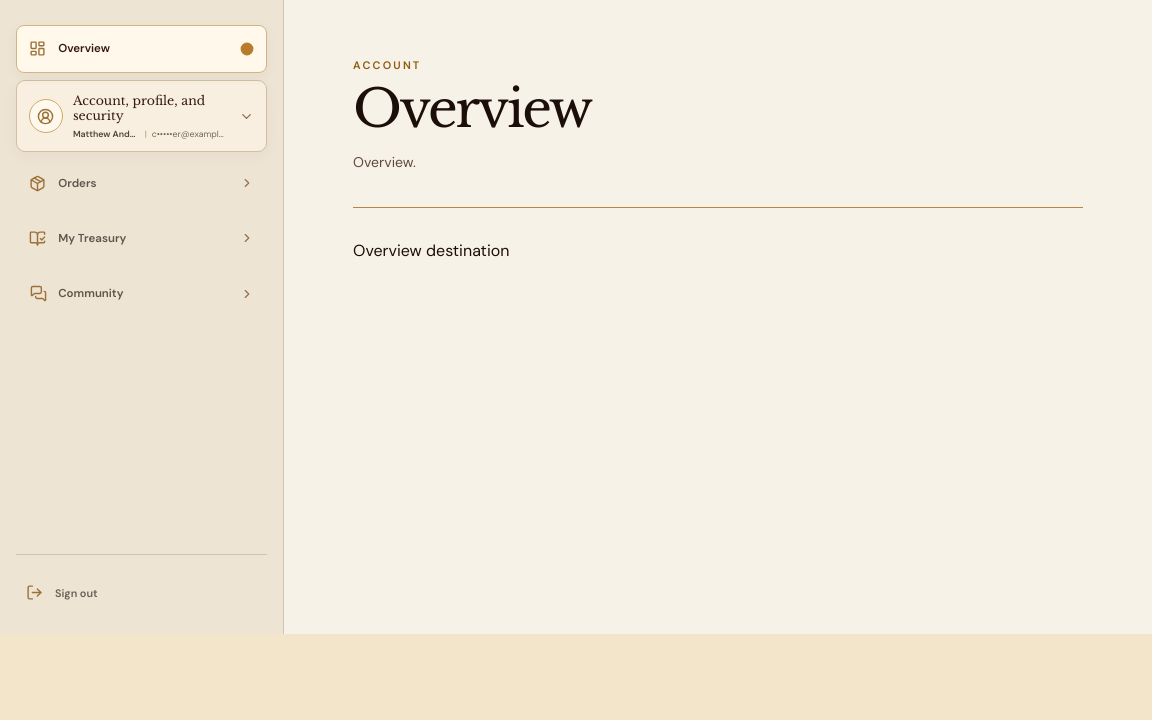
routed Account Centre › reports a failed sidebar sign-out instead of leaving a dead-looking button
Click the button "Sign out": (142, 593) 16,571 -> 267,615
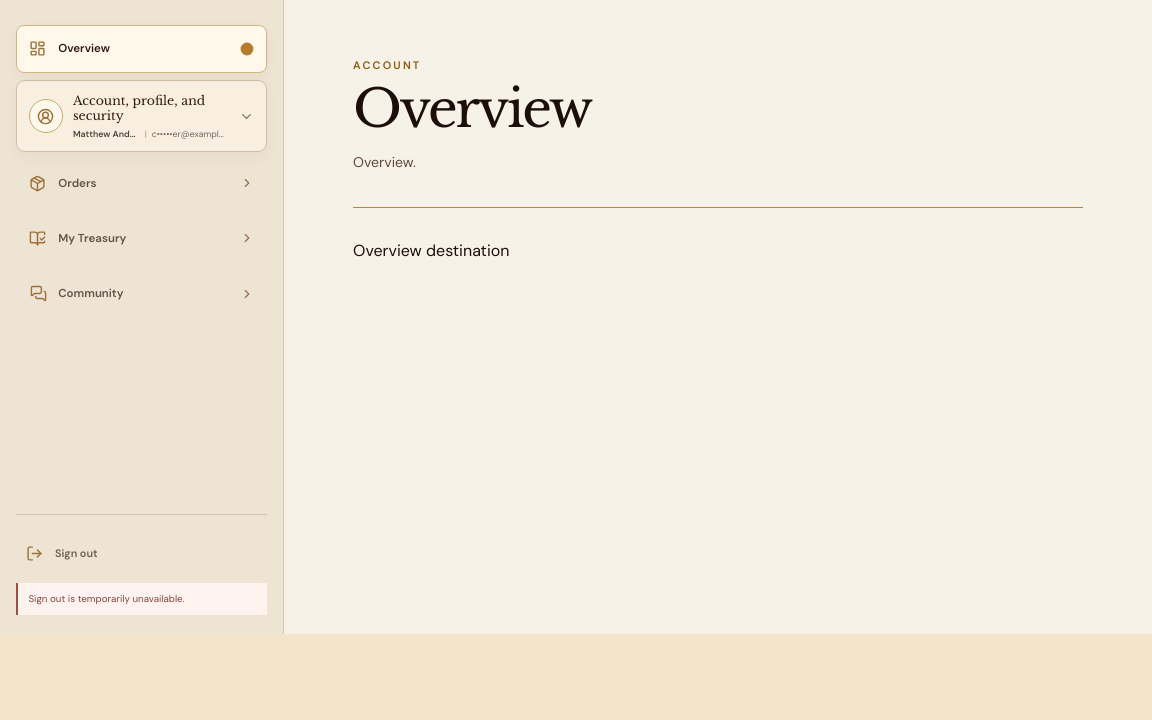
Expected: the button "Sign out" is enabled, 16,531 -> 267,575
Now the message reads "Sign out is temporarily unavailable.", box 28,592 -> 185,605
